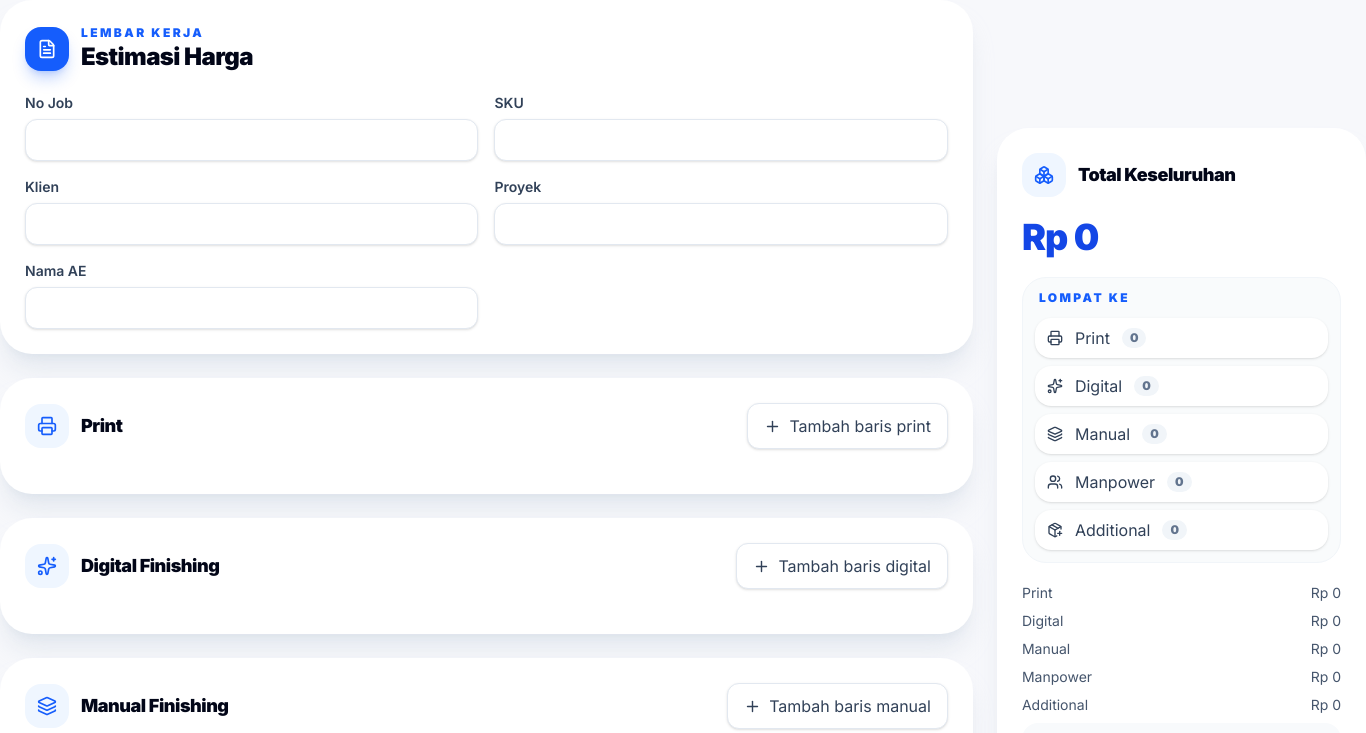
Test: EstimationView › offers Large Format and uses its bulk price
Click the button "Tambah baris print". click: (848,426)
box: [747,403,948,449]
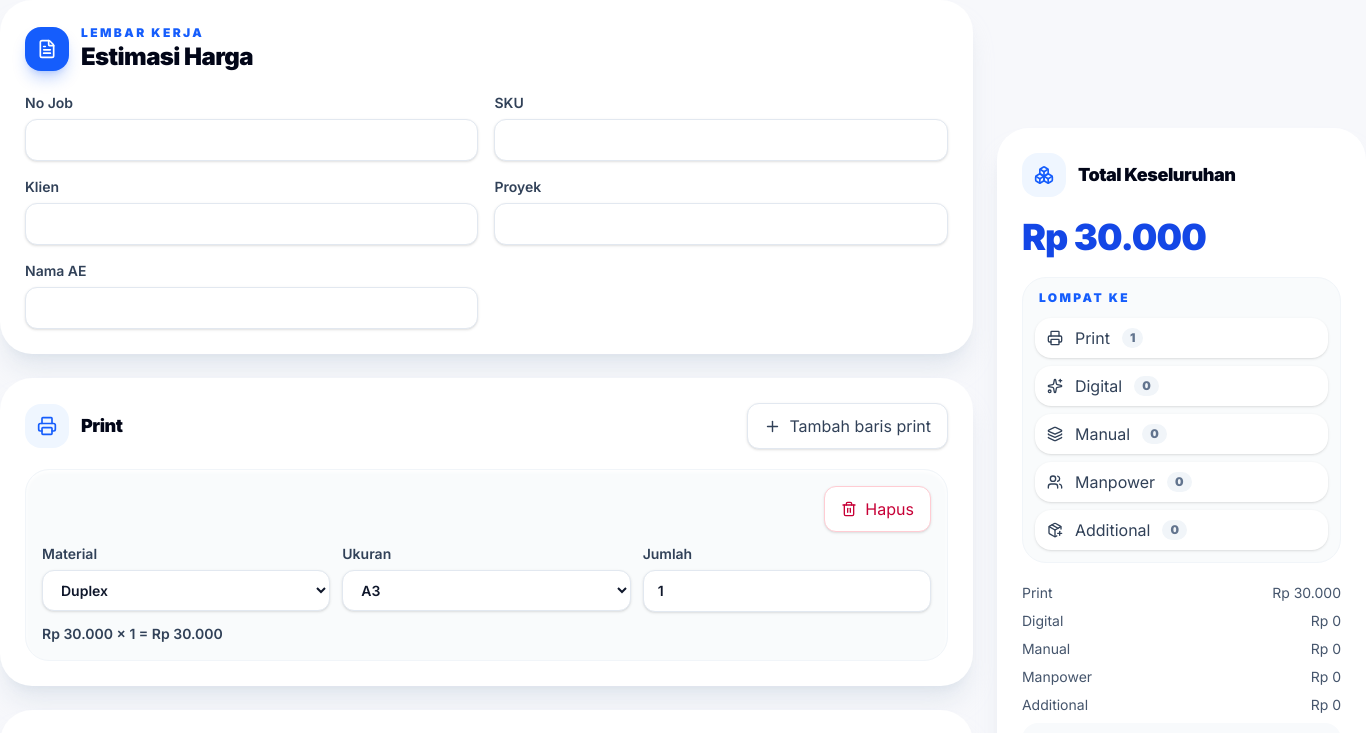
Select "Large Format" in the dropdown labelled "Ukuran". click: (486,590)
box: [342,570,631,611]
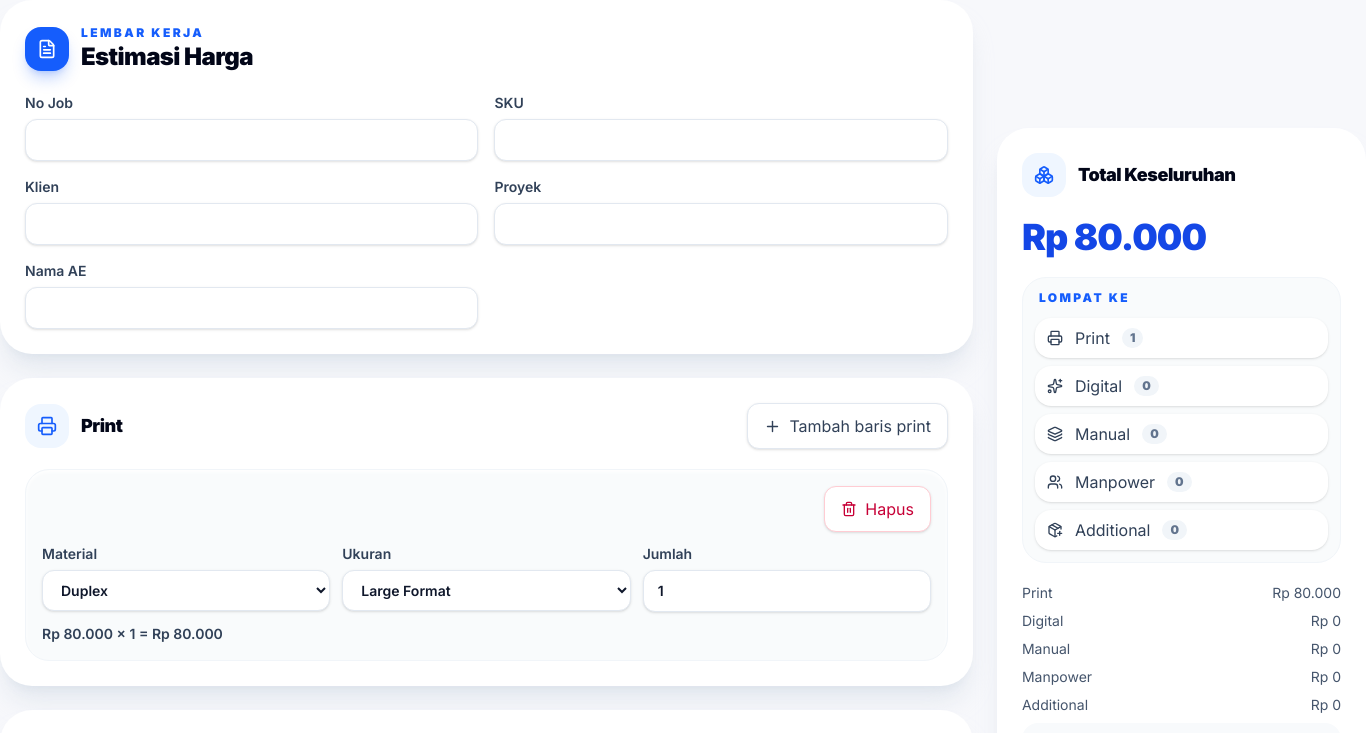
Replace the text in the field labelled "Jumlah" with "11". click: (787,591)
box: [643,570,931,612]
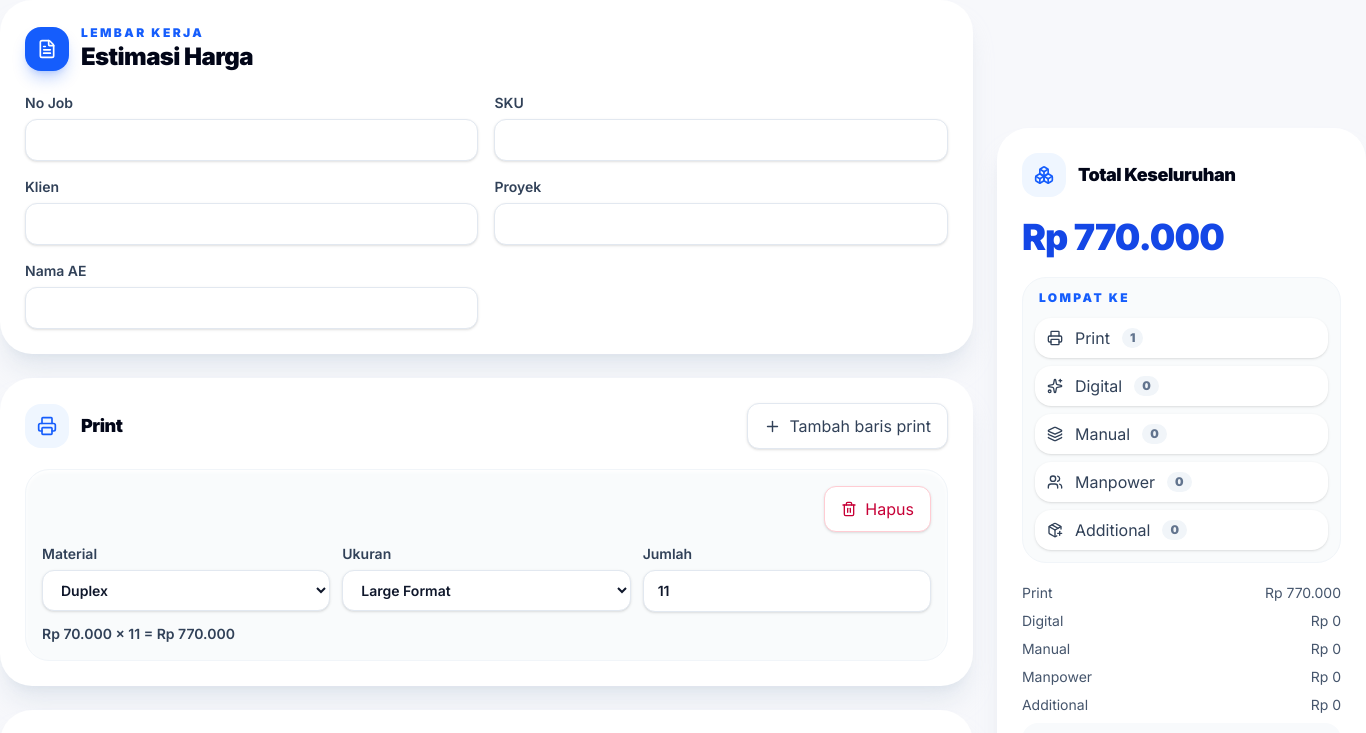
Check: the text "Rp 70.000 × 11 = Rp 770.000" is shown, box [42,625,235,642]
